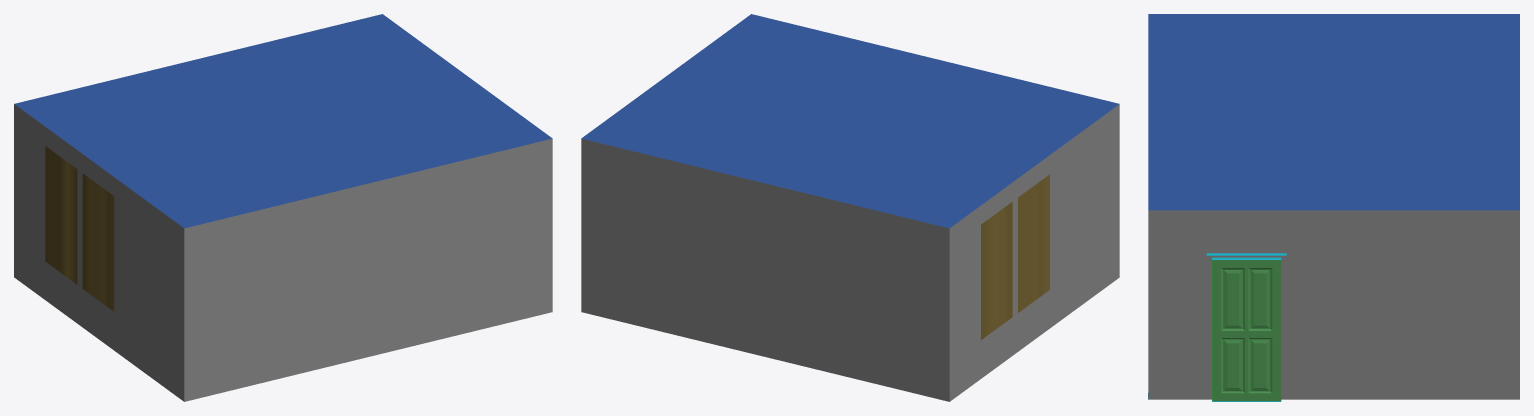
The model's file is Office with Curtain.FBX.
The picture shows the model from 3 angles, left to right: view 1: azimuth 30°, elevation 25°; view 2: azimuth 150°, elevation 25°; view 3: azimuth 270°, elevation 25°; orthographic projection. The views are drawn at different scales.
Visible parts, largest first — view 1: OfficeWalls, Office Ceiling, Plane001; view 2: OfficeWalls, Office Ceiling, Plane001; view 3: Office Ceiling, OfficeWalls, Box008, Box007.
Part boxes in pixels (x1,y1,x2,y2): OfficeWalls: (14,104,552,401); Office Ceiling: (14,14,552,228); Plane001: (45,146,114,311); OfficeWalls: (581,104,1119,401); Office Ceiling: (581,14,1119,228); Plane001: (981,174,1049,339); Office Ceiling: (1148,14,1519,210); OfficeWalls: (1148,210,1519,399); Box008: (1212,260,1281,401); Box007: (1206,253,1286,401).
Bounding box in the file's own units: 20.23 × 9 × 16.
